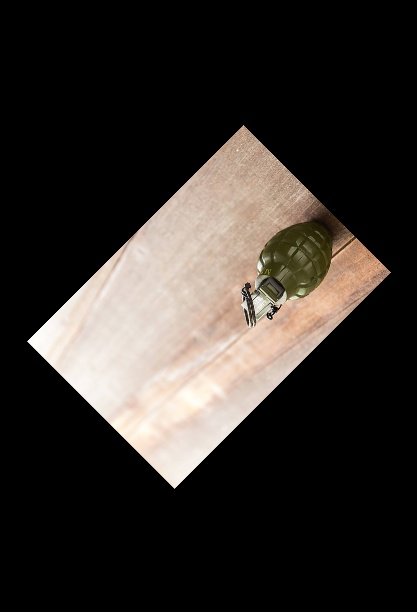e1: (236, 214, 336, 331)
